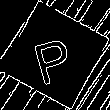P_N: (30, 26, 80, 84)
